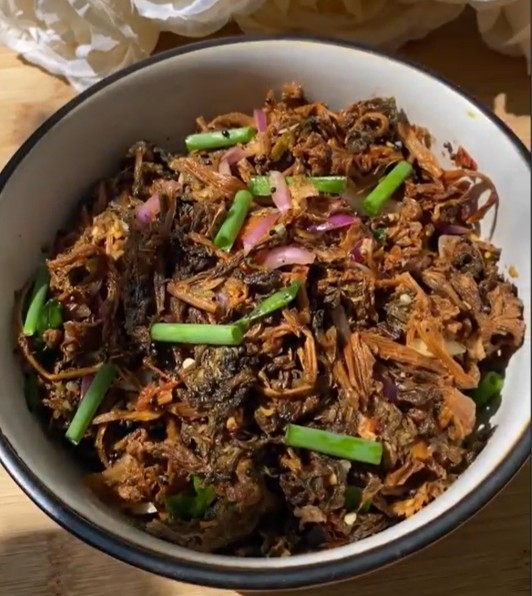gundruk: (47, 97, 451, 503)
